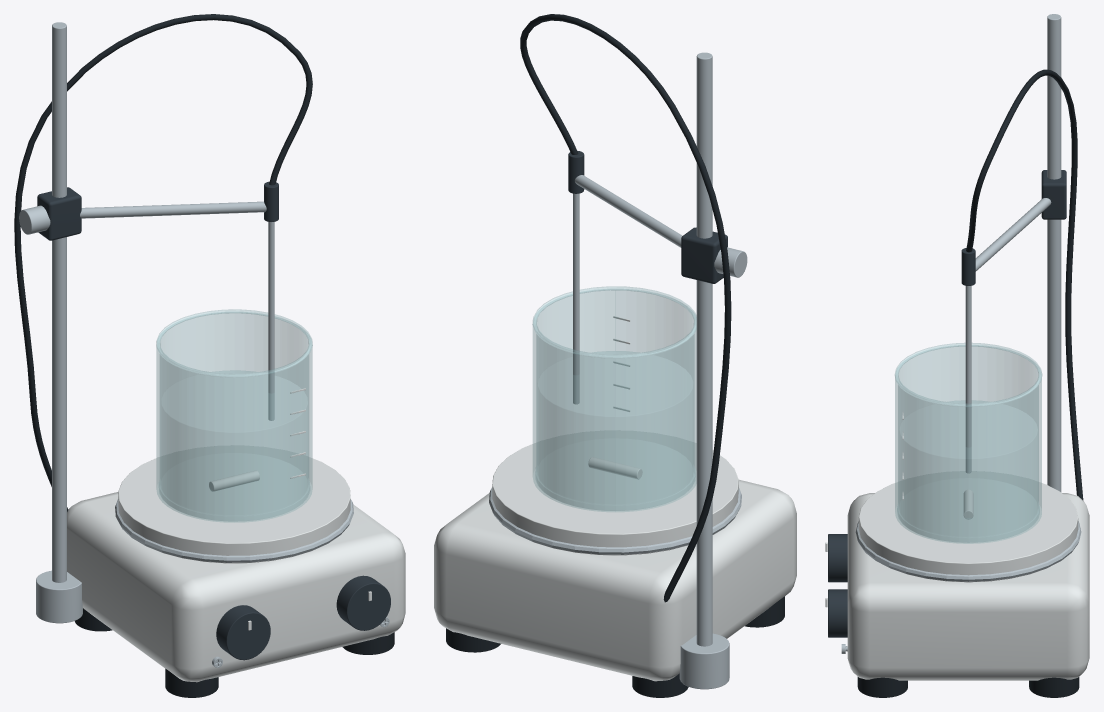
Rendered from 04_magnetic_stirrer.glb.
3 renders of one model, left to right at view 1: azimuth 30°, elevation 25°; view 2: azimuth 150°, elevation 25°; view 3: azimuth 270°, elevation 25°, orthographic. The views are drawn at different scales.
Visible parts, largest first — view 1: Stirrer_Housing, Beaker_GlassWall, Ceramic_HeatingPlate, Liquid, Stand_Rod, Probe_Cable, Temperature_Knob, StirringSpeed_Knob, Clamp_Horizontal_Rod, Stand_Foot, HeatingPlate_Trim, Clamp_Block (+6 smaller); view 2: Stirrer_Housing, Beaker_GlassWall, Ceramic_HeatingPlate, Liquid, Stand_Rod, Probe_Cable, Stand_Foot, HeatingPlate_Trim, Clamp_Block, Beaker_Rim, Probe_Shaft, Clamp_Horizontal_Rod (+7 smaller); view 3: Stirrer_Housing, Beaker_GlassWall, Ceramic_HeatingPlate, Liquid, Stand_Rod, Probe_Cable, HeatingPlate_Trim, Beaker_Rim, Probe_Shaft, Clamp_Block, Clamp_Horizontal_Rod, StirringSpeed_Knob (+5 smaller).
Part boxes in pixels (x1,y1,x2,y2): Stirrer_Housing: (67,492,405,682); Beaker_GlassWall: (156,312,312,522); Ceramic_HeatingPlate: (118,445,350,563); Liquid: (161,370,307,482); Stand_Rod: (52,22,66,582); Probe_Cable: (14,14,312,511); Temperature_Knob: (216,605,270,660); StirringSpeed_Knob: (336,575,390,630); Clamp_Horizontal_Rod: (80,201,266,218); Stand_Foot: (36,570,82,623); HeatingPlate_Trim: (115,499,353,562); Clamp_Block: (37,187,81,240); Stirrer_Housing: (434,479,796,681); Beaker_GlassWall: (533,289,696,512); Ceramic_HeatingPlate: (492,430,738,555); Liquid: (538,351,692,467); Stand_Rod: (696,52,712,646); Probe_Cable: (520,14,731,602); Stand_Foot: (679,633,729,689); HeatingPlate_Trim: (489,487,741,554); Clamp_Block: (681,227,727,283); Beaker_Rim: (532,286,696,358); Probe_Shaft: (573,193,579,404); Clamp_Horizontal_Rod: (574,175,682,247); Stirrer_Housing: (847,493,1089,680); Beaker_GlassWall: (895,345,1041,543); Ceramic_HeatingPlate: (858,471,1078,582); Liquid: (899,400,1037,506); Stand_Rod: (1047,14,1061,492); Probe_Cable: (966,69,1083,500); HeatingPlate_Trim: (855,521,1081,581); Beaker_Rim: (895,343,1042,406); Probe_Shaft: (965,286,971,473); Clamp_Block: (1041,170,1066,219); Clamp_Horizontal_Rod: (975,198,1051,271); StirringSpeed_Knob: (828,589,847,637).
Bounding box in the file's own units: 0.3022 × 0.625 × 0.262.
